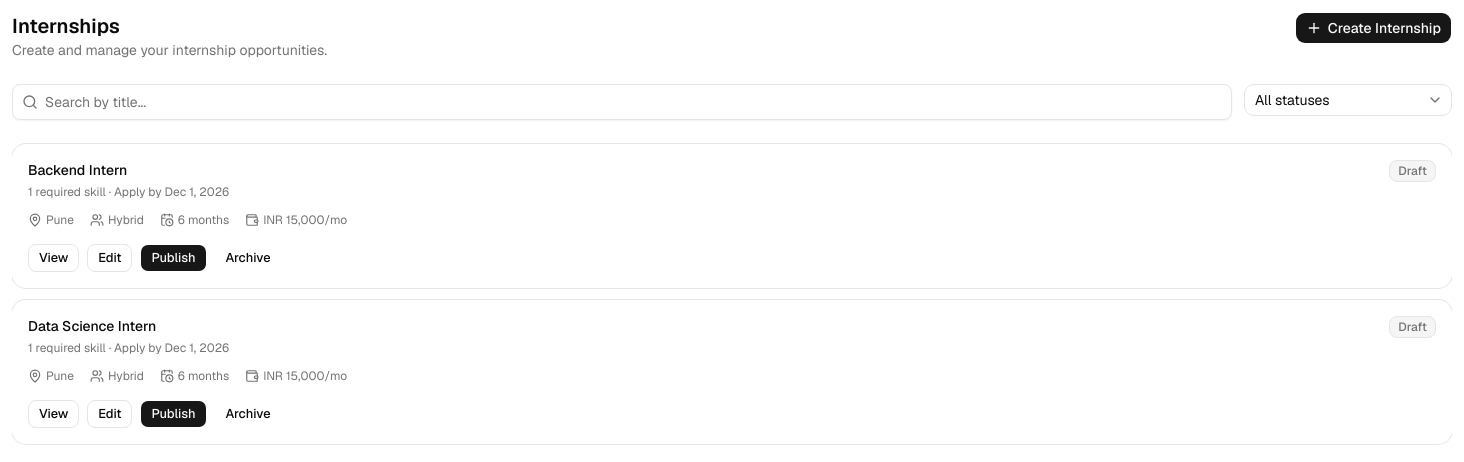
Test: InternshipsListView › filters by search text
This screenshot has width=1464, height=462.
expect the link "Backend Intern" is shown: met, box [28,161,127,179]
Type "data" into the field named "Search internships" at (622, 102), box [12,84,1232,120]
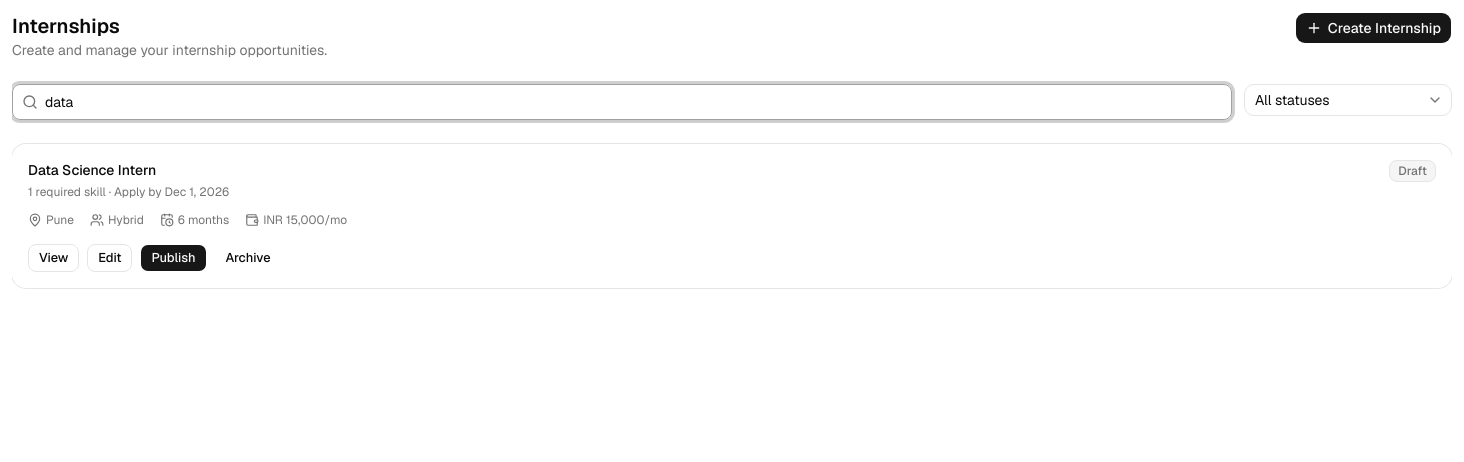
expect the link "Data Science Intern" is shown: met, box [28,161,156,179]
expect the link "Backend Intern" is gone: met
